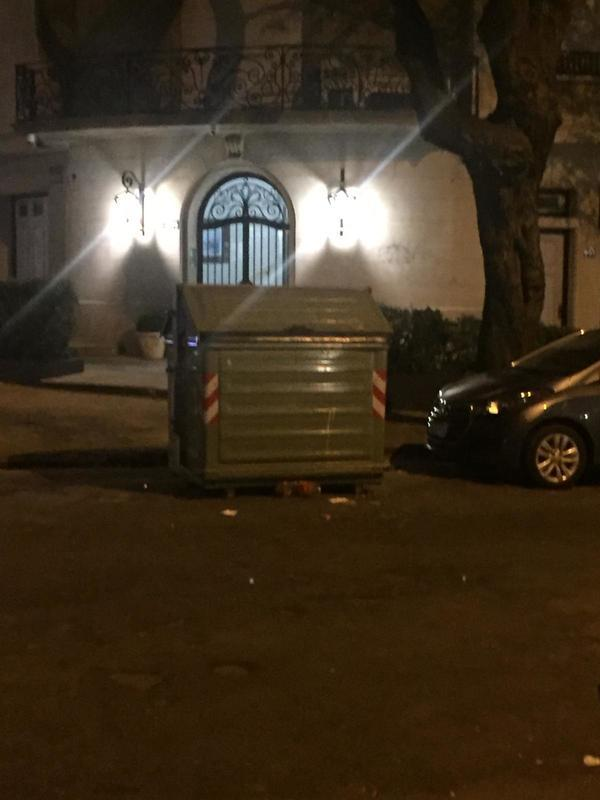Dechets: (272, 479, 328, 498), (322, 488, 357, 511), (578, 748, 600, 772), (218, 503, 243, 522)
Trash: (167, 283, 390, 493)
